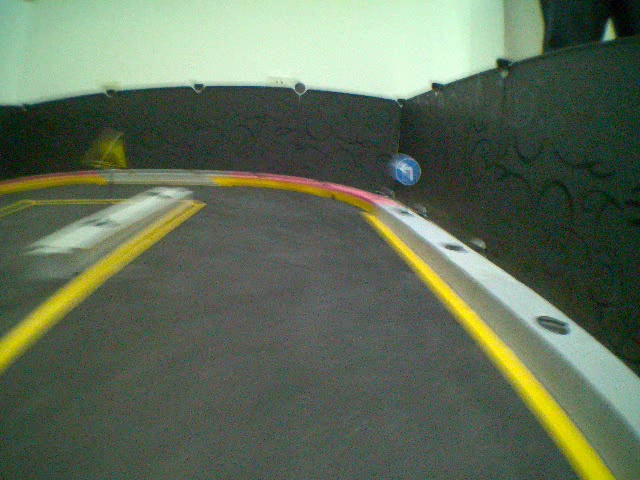turn: (394, 155, 421, 186)
